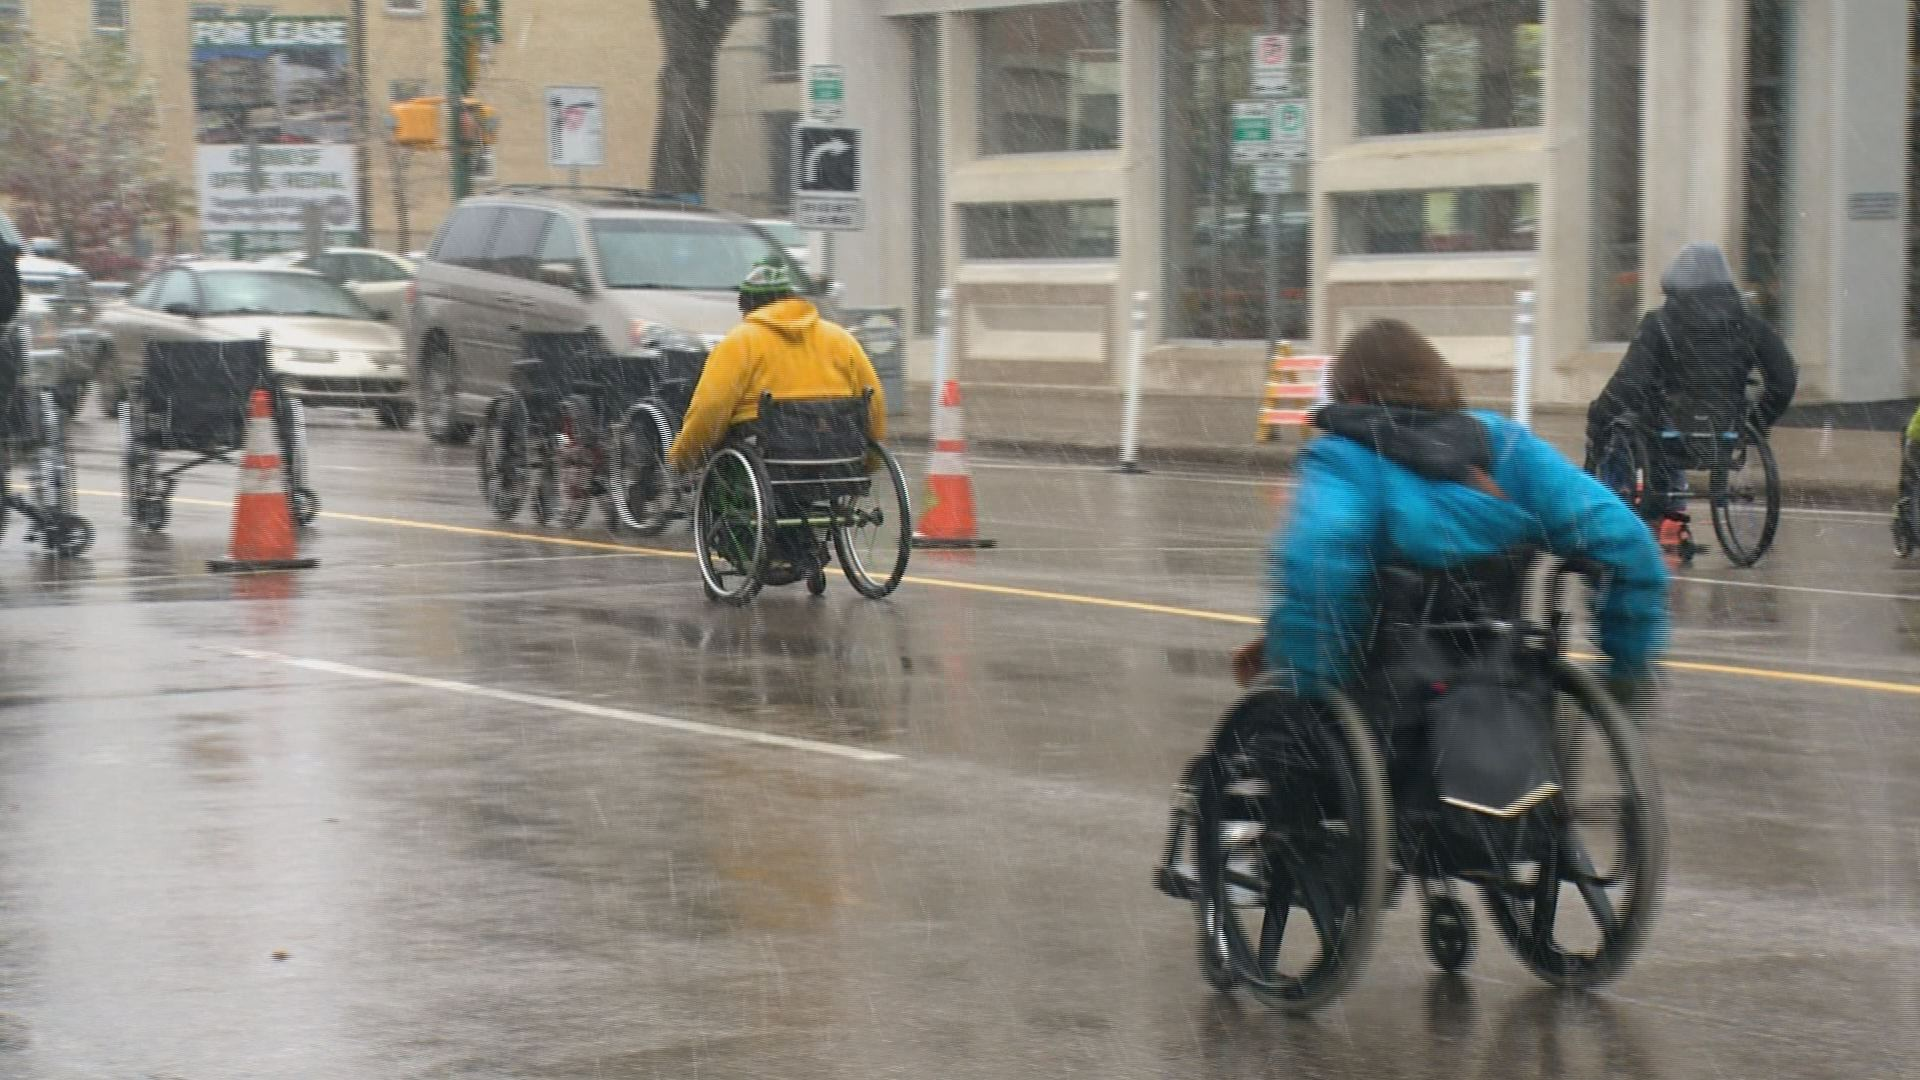person: (1261, 298, 1634, 664), (654, 258, 891, 438)
wheelchair: (1164, 634, 1674, 1028), (661, 431, 924, 618)
